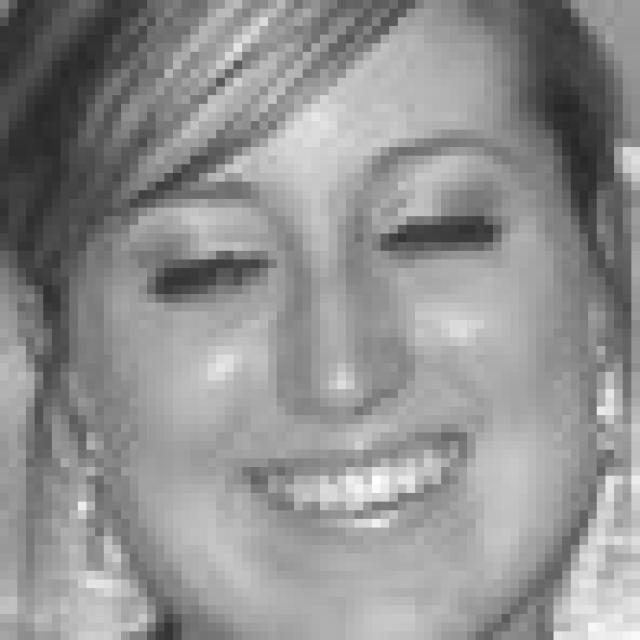real: (52, 0, 596, 640), (122, 207, 518, 318)
